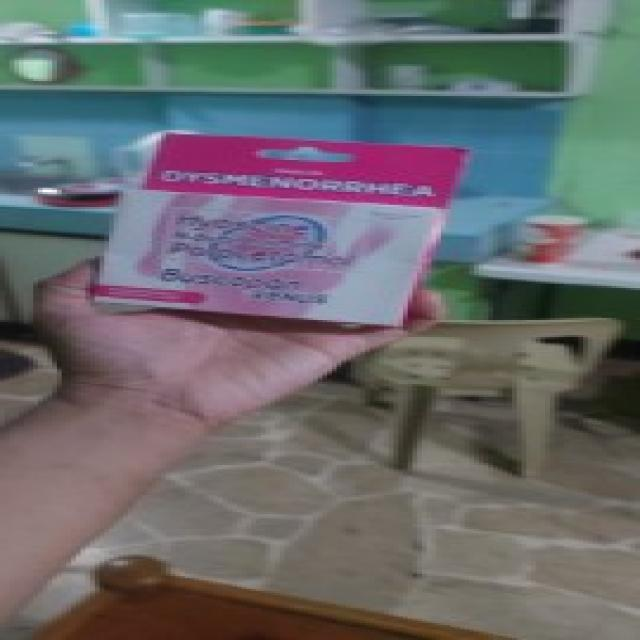Cacat: (81, 137, 469, 330)
